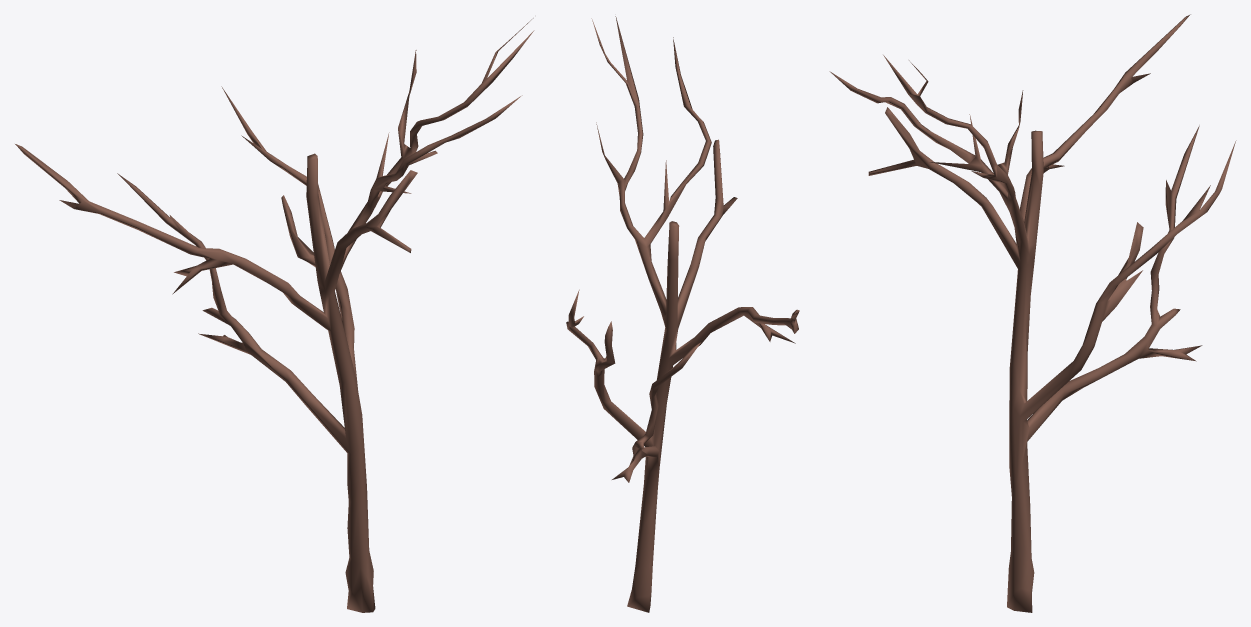
The model's file is dead_tree_c.FBX.
The picture shows the model from 3 angles, left to right: view 1: azimuth 30°, elevation 25°; view 2: azimuth 150°, elevation 25°; view 3: azimuth 270°, elevation 25°; orthographic projection. The views are drawn at different scales.
Parts seen in each view (by area): view 1: dead_tree_c_LOD0; view 2: dead_tree_c_LOD0; view 3: dead_tree_c_LOD0.
Part boxes in pixels (x1,y1,x2,y2): dead_tree_c_LOD0: (15,18,534,612); dead_tree_c_LOD0: (566,16,799,612); dead_tree_c_LOD0: (829,14,1236,612).
Size of what is drawn, in the model's own units: 634 by 968 by 590.
